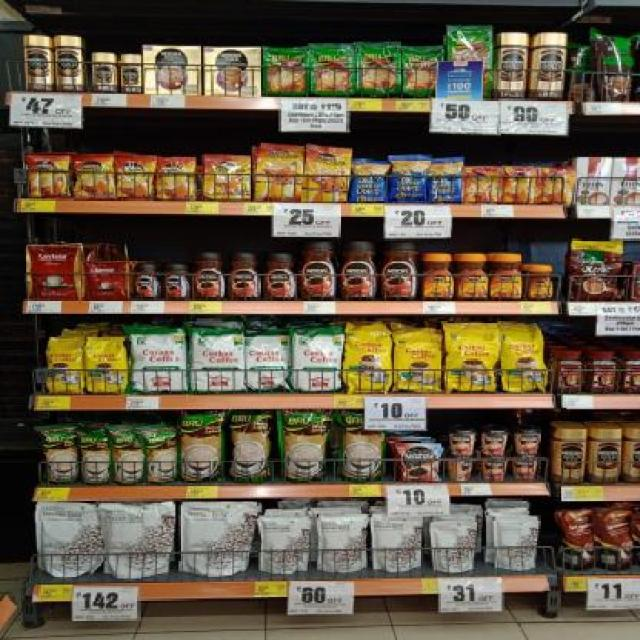Coffee: (256, 145, 301, 200), (305, 146, 349, 202), (339, 240, 378, 298), (379, 242, 418, 298), (533, 34, 565, 100), (301, 240, 337, 298), (204, 155, 250, 200), (498, 33, 528, 99), (73, 157, 115, 198), (556, 429, 586, 485), (54, 35, 84, 91), (193, 252, 227, 299), (28, 156, 66, 198), (488, 254, 524, 298), (25, 35, 53, 91), (398, 445, 439, 483), (157, 158, 195, 199), (116, 155, 153, 197), (592, 428, 620, 483), (262, 253, 296, 298), (228, 252, 261, 298), (456, 253, 489, 299), (424, 253, 454, 299), (92, 53, 117, 92), (526, 266, 554, 299), (162, 264, 188, 298), (133, 265, 158, 300), (120, 55, 140, 93)
